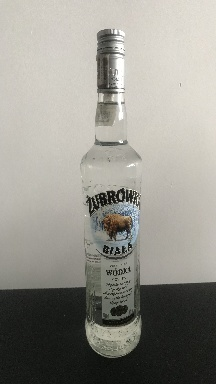butelka: (78, 25, 142, 360)
